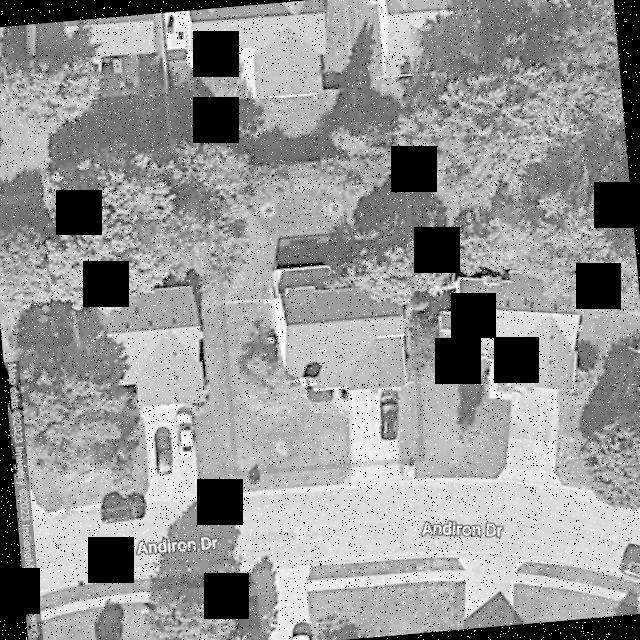Driveway: (333, 389, 397, 460)
Extra Driveway: (344, 464, 401, 482)
Extra Lawn: (191, 303, 348, 493)
Extra Sidewalk: (402, 465, 413, 477)
House: (270, 263, 406, 390)
